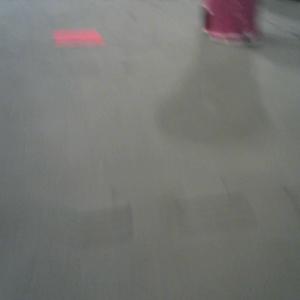right: (200, 1, 266, 45)
